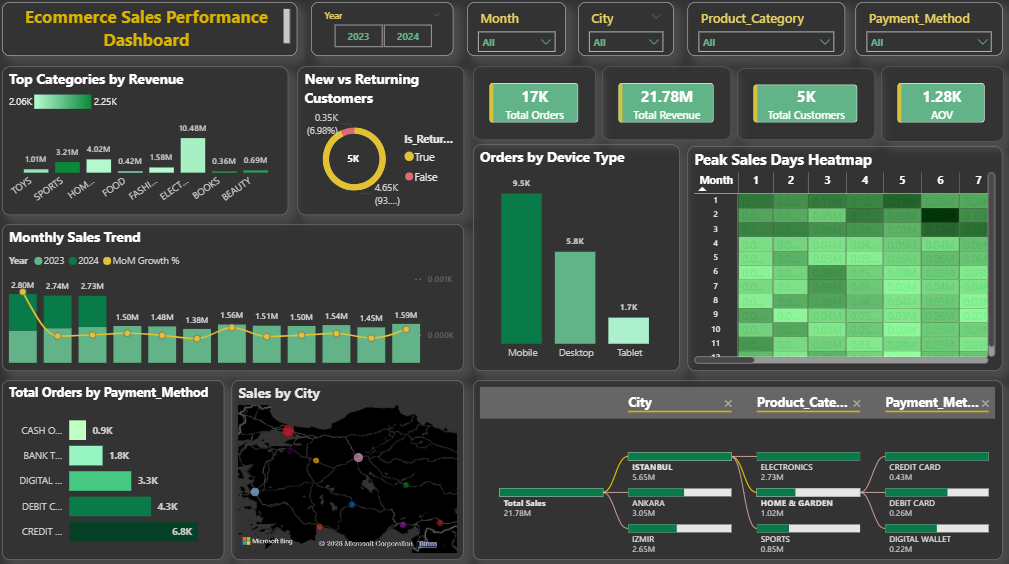

What the dashboard file says about the page in this screenshot:
{"tool":"powerbi","page":{"name":"page 1 ","canvas":[1280,720],"ordinal":0},"visuals":[{"type":"lineStackedColumnComboChart","title":"Monthly Sales Trend","fields":{"Category":["dim_date.Month"],"Series":["dim_date.Year"],"Y":["dim_date.Monthly Sales"],"Y2":["dim_date.MoM Growth %"]},"box":[7.6,285.4,582.1,189],"z":0},{"type":"textbox","box":[7.6,7.6,372.3,68],"z":1000},{"type":"cardVisual","fields":{"Data":["dim_customers.Total Orders"]},"box":[600.9,90.7,158.7,92.6],"z":2000},{"type":"cardVisual","fields":{"Data":["dim_customers.Total Revenue"]},"box":[771,88.8,156.9,94.5],"z":3000},{"type":"cardVisual","fields":{"Data":["dim_customers.Total Customers"]},"box":[943,90.7,168.2,92.6],"z":4000},{"type":"cardVisual","fields":{"Data":["dim_customers.AOV"]},"box":[1122.5,88.8,145.5,92.6],"z":5000},{"type":"columnChart","title":"Top Categories by Revenue","fields":{"Category":["fact_orders.Product_Category"],"Y":["dim_products.Category Revenue"]},"box":[7.6,92.6,360.9,183.3],"z":6000},{"type":"map","title":"Sales by City","fields":{"Category":["dim_customers.City"],"Size":["dim_customers.City Sales"]},"box":[296.7,483.8,292.9,226.8],"z":7000},{"type":"barChart","fields":{"Category":["dim_payment.Payment_Method"],"Y":["dim_customers.Total Orders"]},"box":[7.6,483.8,279.7,226.8],"z":8000},{"type":"donutChart","title":"New vs Returning Customers","fields":{"Y":["dim_customers.Customer Count"],"Category":["dim_customers.Is_Returning"]},"box":[379.8,90.7,209.8,185.2],"z":8500,"group":"g2"},{"type":"columnChart","title":"Orders by Device Type","fields":{"Category":["dim_device.Device_Type"],"Y":["dim_customers.Total Orders"]},"box":[600.9,189,260.8,285.4],"z":9000},{"type":"decompositionTreeVisual","fields":{"Analyze":["dim_customers.Total Sales"],"ExplainBy":["dim_customers.City","dim_products.Product_Category","dim_payment.Payment_Method"]},"box":[600.9,483.8,667.1,226.8],"z":10000},{"type":"pivotTable","title":"Peak Sales Days Heatmap","fields":{"Rows":["dim_date.Month"],"Values":["dim_customers.Total Sales"],"Columns":["dim_date.Day"]},"box":[871.2,190.9,396.9,283.5],"z":11000},{"type":"cardVisual","fields":{"Data":["dim_customers.Total Customers"]},"box":[415.7,175.7,68,58.6],"z":11500,"group":"g2"},{"type":"group","id":"g1","title":"Group 1","box":[379.8,90.7,209.8,185.2],"z":12000},{"type":"slicer","fields":{"Values":["dim_date.Year"]},"box":[396.9,7.6,179.5,68],"z":13000},{"type":"slicer","fields":{"Values":["dim_date.Month"]},"box":[593.4,7.6,124.7,68],"z":14000},{"type":"slicer","fields":{"Values":["dim_customers.City"]},"box":[733.2,7.6,120.9,68],"z":15000},{"type":"slicer","fields":{"Values":["dim_products.Product_Category"]},"box":[871.2,7.6,198.4,68],"z":16000},{"type":"slicer","fields":{"Values":["dim_payment.Payment_Method"]},"box":[1082.8,7.6,185.2,68],"z":17000},{"type":"group","id":"g2","title":"Group 2","box":[379.8,90.7,209.8,185.2],"z":17001,"group":"g1"}]}

Visuals, with their boxes in screenshot pixels (x1, y1, x2, y2), scaled from the page's 1280x720 canvas onto the 1009x564 screenshot:
"Monthly Sales Trend" lineStackedColumnComboChart: l=6, t=224, r=465, b=372
textbox: l=6, t=6, r=299, b=59
cardVisual - dim_customers.Total Orders: l=474, t=71, r=599, b=144
cardVisual - dim_customers.Total Revenue: l=608, t=70, r=731, b=144
cardVisual - dim_customers.Total Customers: l=743, t=71, r=876, b=144
cardVisual - dim_customers.AOV: l=885, t=70, r=1000, b=142
"Top Categories by Revenue" columnChart: l=6, t=73, r=290, b=216
"Sales by City" map: l=234, t=379, r=465, b=557
barChart - dim_payment.Payment_Method x dim_customers.Total Orders: l=6, t=379, r=226, b=557
"New vs Returning Customers" donutChart: l=299, t=71, r=465, b=216
"Orders by Device Type" columnChart: l=474, t=148, r=679, b=372
decompositionTreeVisual - dim_customers.Total Sales x dim_customers.City: l=474, t=379, r=1000, b=557
"Peak Sales Days Heatmap" pivotTable: l=687, t=150, r=1000, b=372
cardVisual - dim_customers.Total Customers: l=328, t=138, r=381, b=184
"Group 1" group: l=299, t=71, r=465, b=216
slicer - dim_date.Year: l=313, t=6, r=454, b=59
slicer - dim_date.Month: l=468, t=6, r=566, b=59
slicer - dim_customers.City: l=578, t=6, r=673, b=59
slicer - dim_products.Product_Category: l=687, t=6, r=843, b=59
slicer - dim_payment.Payment_Method: l=854, t=6, r=1000, b=59
"Group 2" group: l=299, t=71, r=465, b=216
